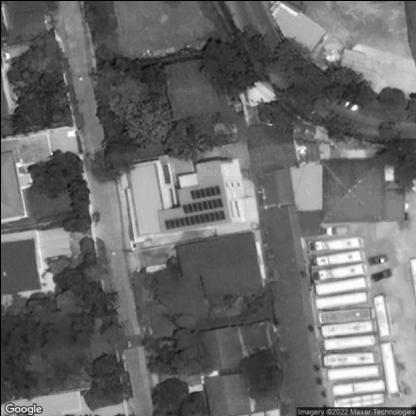solar-pv-panel: (165, 185, 224, 226)
